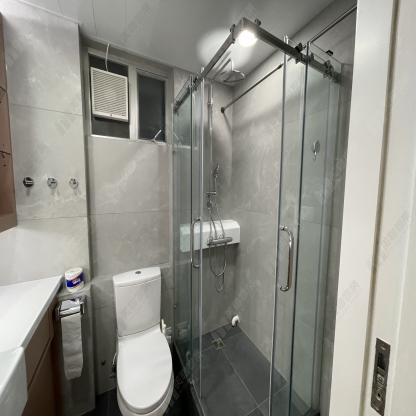Exhaust Fan: (91, 66, 129, 123)
Toilet: (111, 266, 174, 416)
Water Cubicle: (171, 30, 342, 416)
